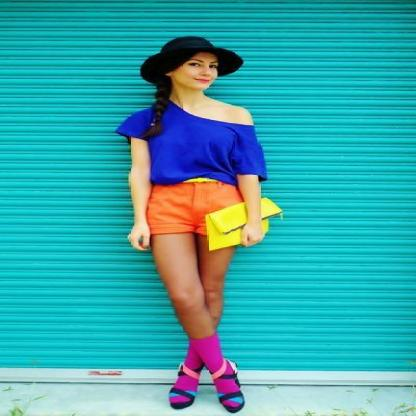bag: (203, 200, 283, 249)
hat: (140, 36, 242, 81)
shirt: (118, 108, 266, 185)
shoe: (170, 388, 244, 412)
shorts: (146, 178, 248, 240)
